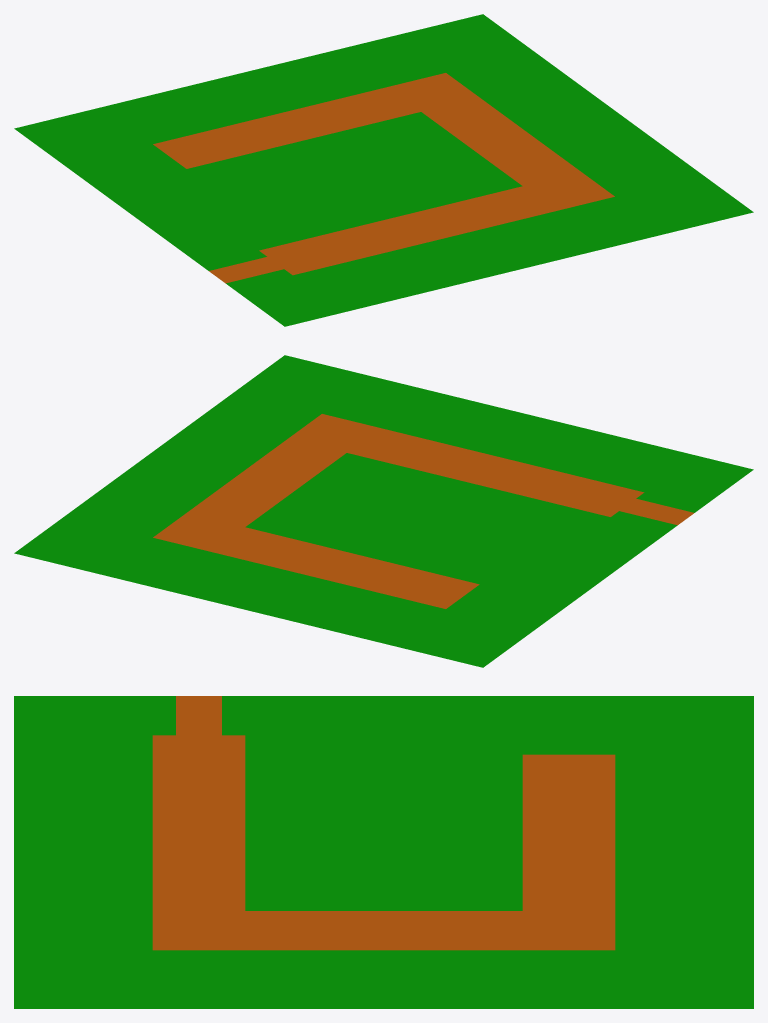
The model's file is TownGround.FBX.
3 renders of one model, top to bottom at view 1: azimuth 30°, elevation 25°; view 2: azimuth 150°, elevation 25°; view 3: azimuth 270°, elevation 25°, orthographic. The views are drawn at different scales.
Parts seen in each view (by area): view 1: Plane001; view 2: Plane001; view 3: Plane001.
Part boxes in pixels (left/top/right/bottom): Plane001: left=14, top=14, right=753, bottom=326; Plane001: left=14, top=355, right=753, bottom=667; Plane001: left=14, top=696, right=753, bottom=1008.
Bounding box in the file's own units: 100 × 6.12e-15 × 100.
